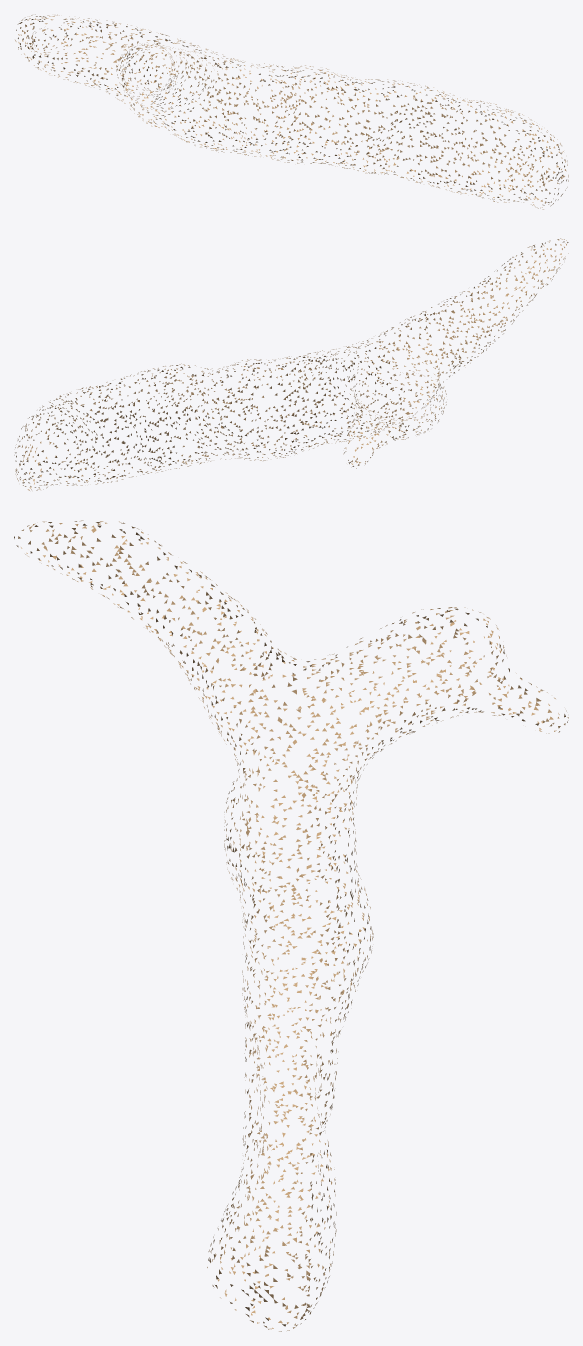
The model's file is morph_006.glb.
3 renders of one model, top to bottom at view 1: azimuth 30°, elevation 25°; view 2: azimuth 150°, elevation 25°; view 3: azimuth 270°, elevation 25°, orthographic. The views are drawn at different scales.
Size of the model in its own units: 132 by 82.22 by 87.08.
